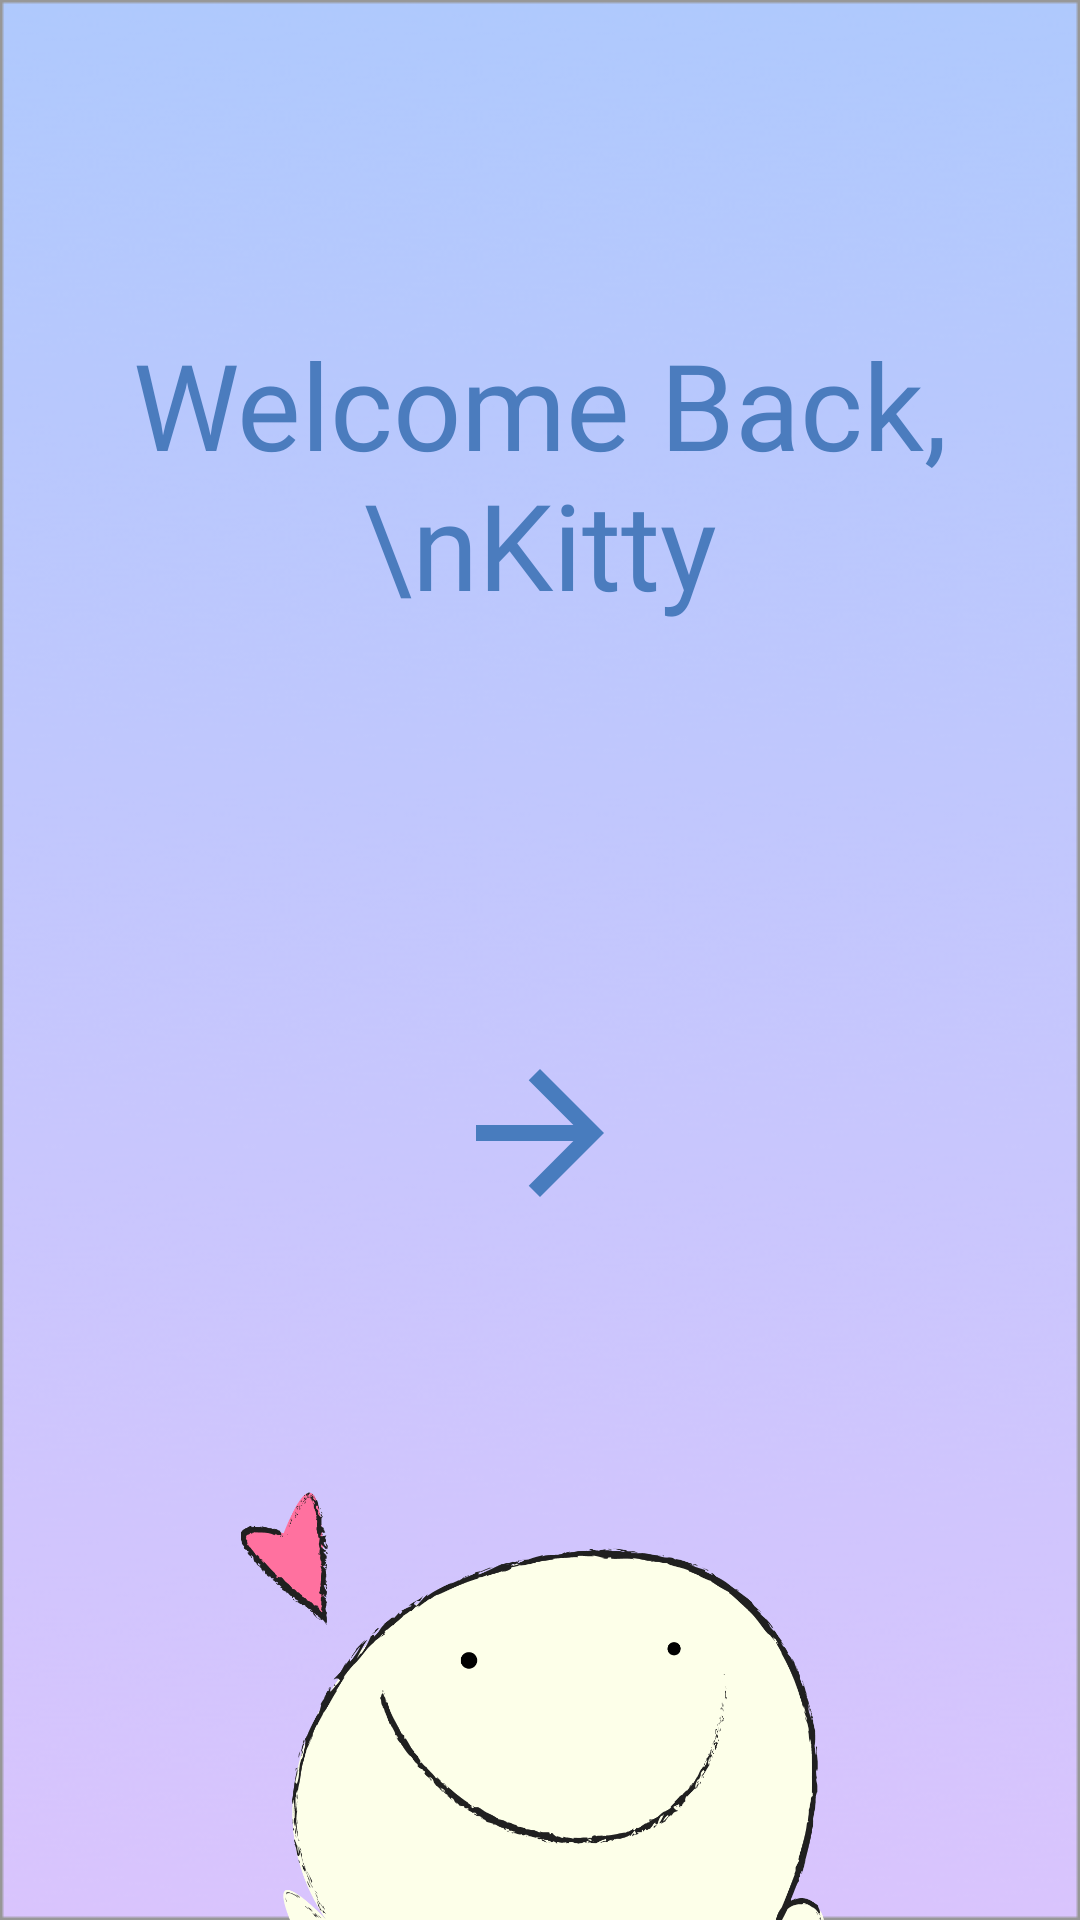

Icons on this 1080px×1920px Android screen, each with its box as (x1, y1, x2, y2):
arrow forward: (476, 1069, 604, 1197)
